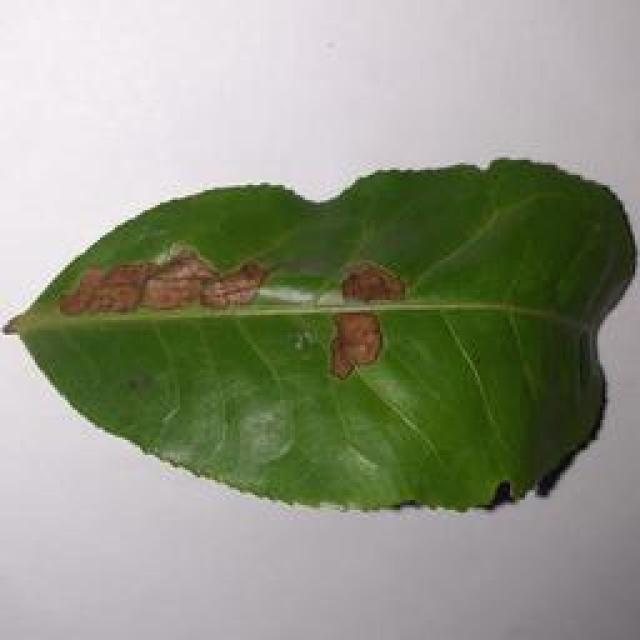Gray Blight: (0, 146, 640, 550)
